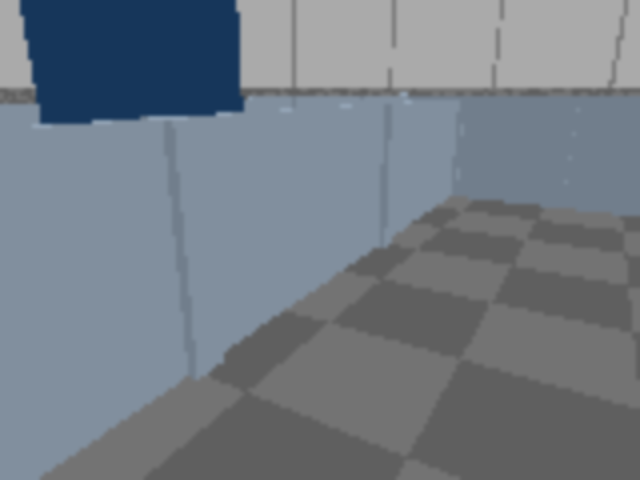person: (0, 0, 231, 310)
